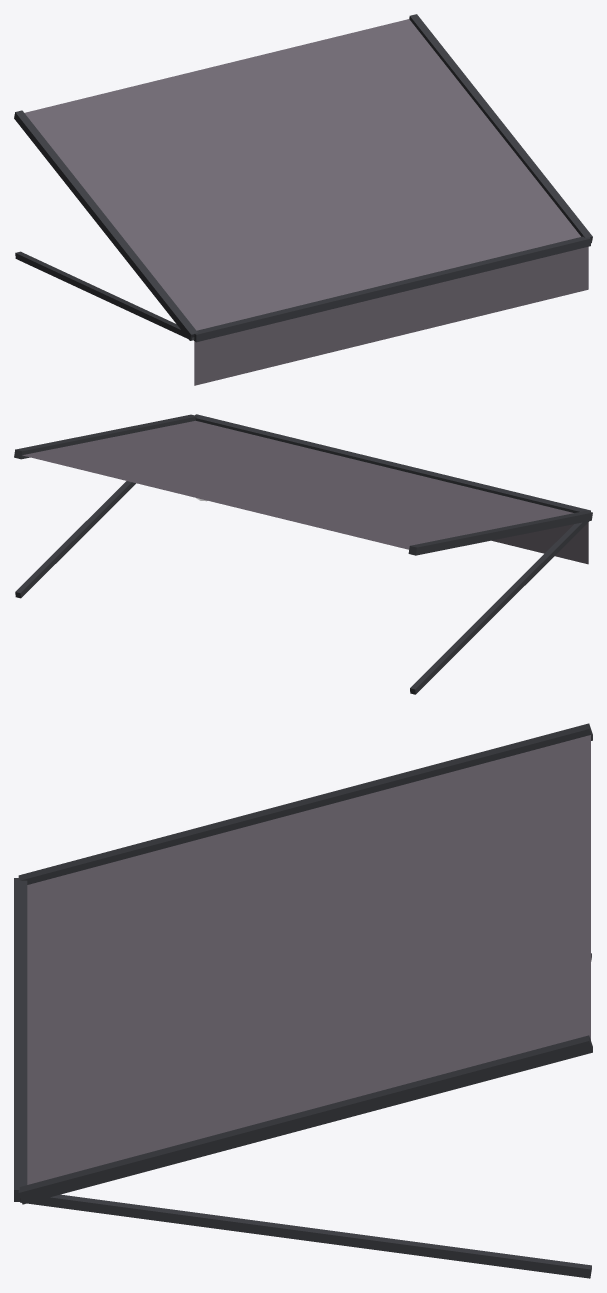
File: awning_1bay.glb
3 renders of one model, top to bottom at view 1: azimuth 30°, elevation 25°; view 2: azimuth 150°, elevation 25°; view 3: azimuth 270°, elevation 25°, orthographic. The views are drawn at different scales.
Parts seen in each view (by area): view 1: awning_1bay; view 2: awning_1bay; view 3: awning_1bay.
Boxes of the visible parts, left/top/right/bottom form: awning_1bay: left=14, top=14, right=592, bottom=385; awning_1bay: left=14, top=414, right=592, bottom=694; awning_1bay: left=14, top=723, right=592, bottom=1278.
Bounding box in the file's own units: 2.24 × 0.784 × 1.73.
3 materials, 1 textured.
